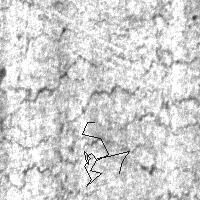crazing: (22, 84, 198, 164), (59, 1, 197, 94), (1, 123, 78, 191), (82, 122, 129, 186)
